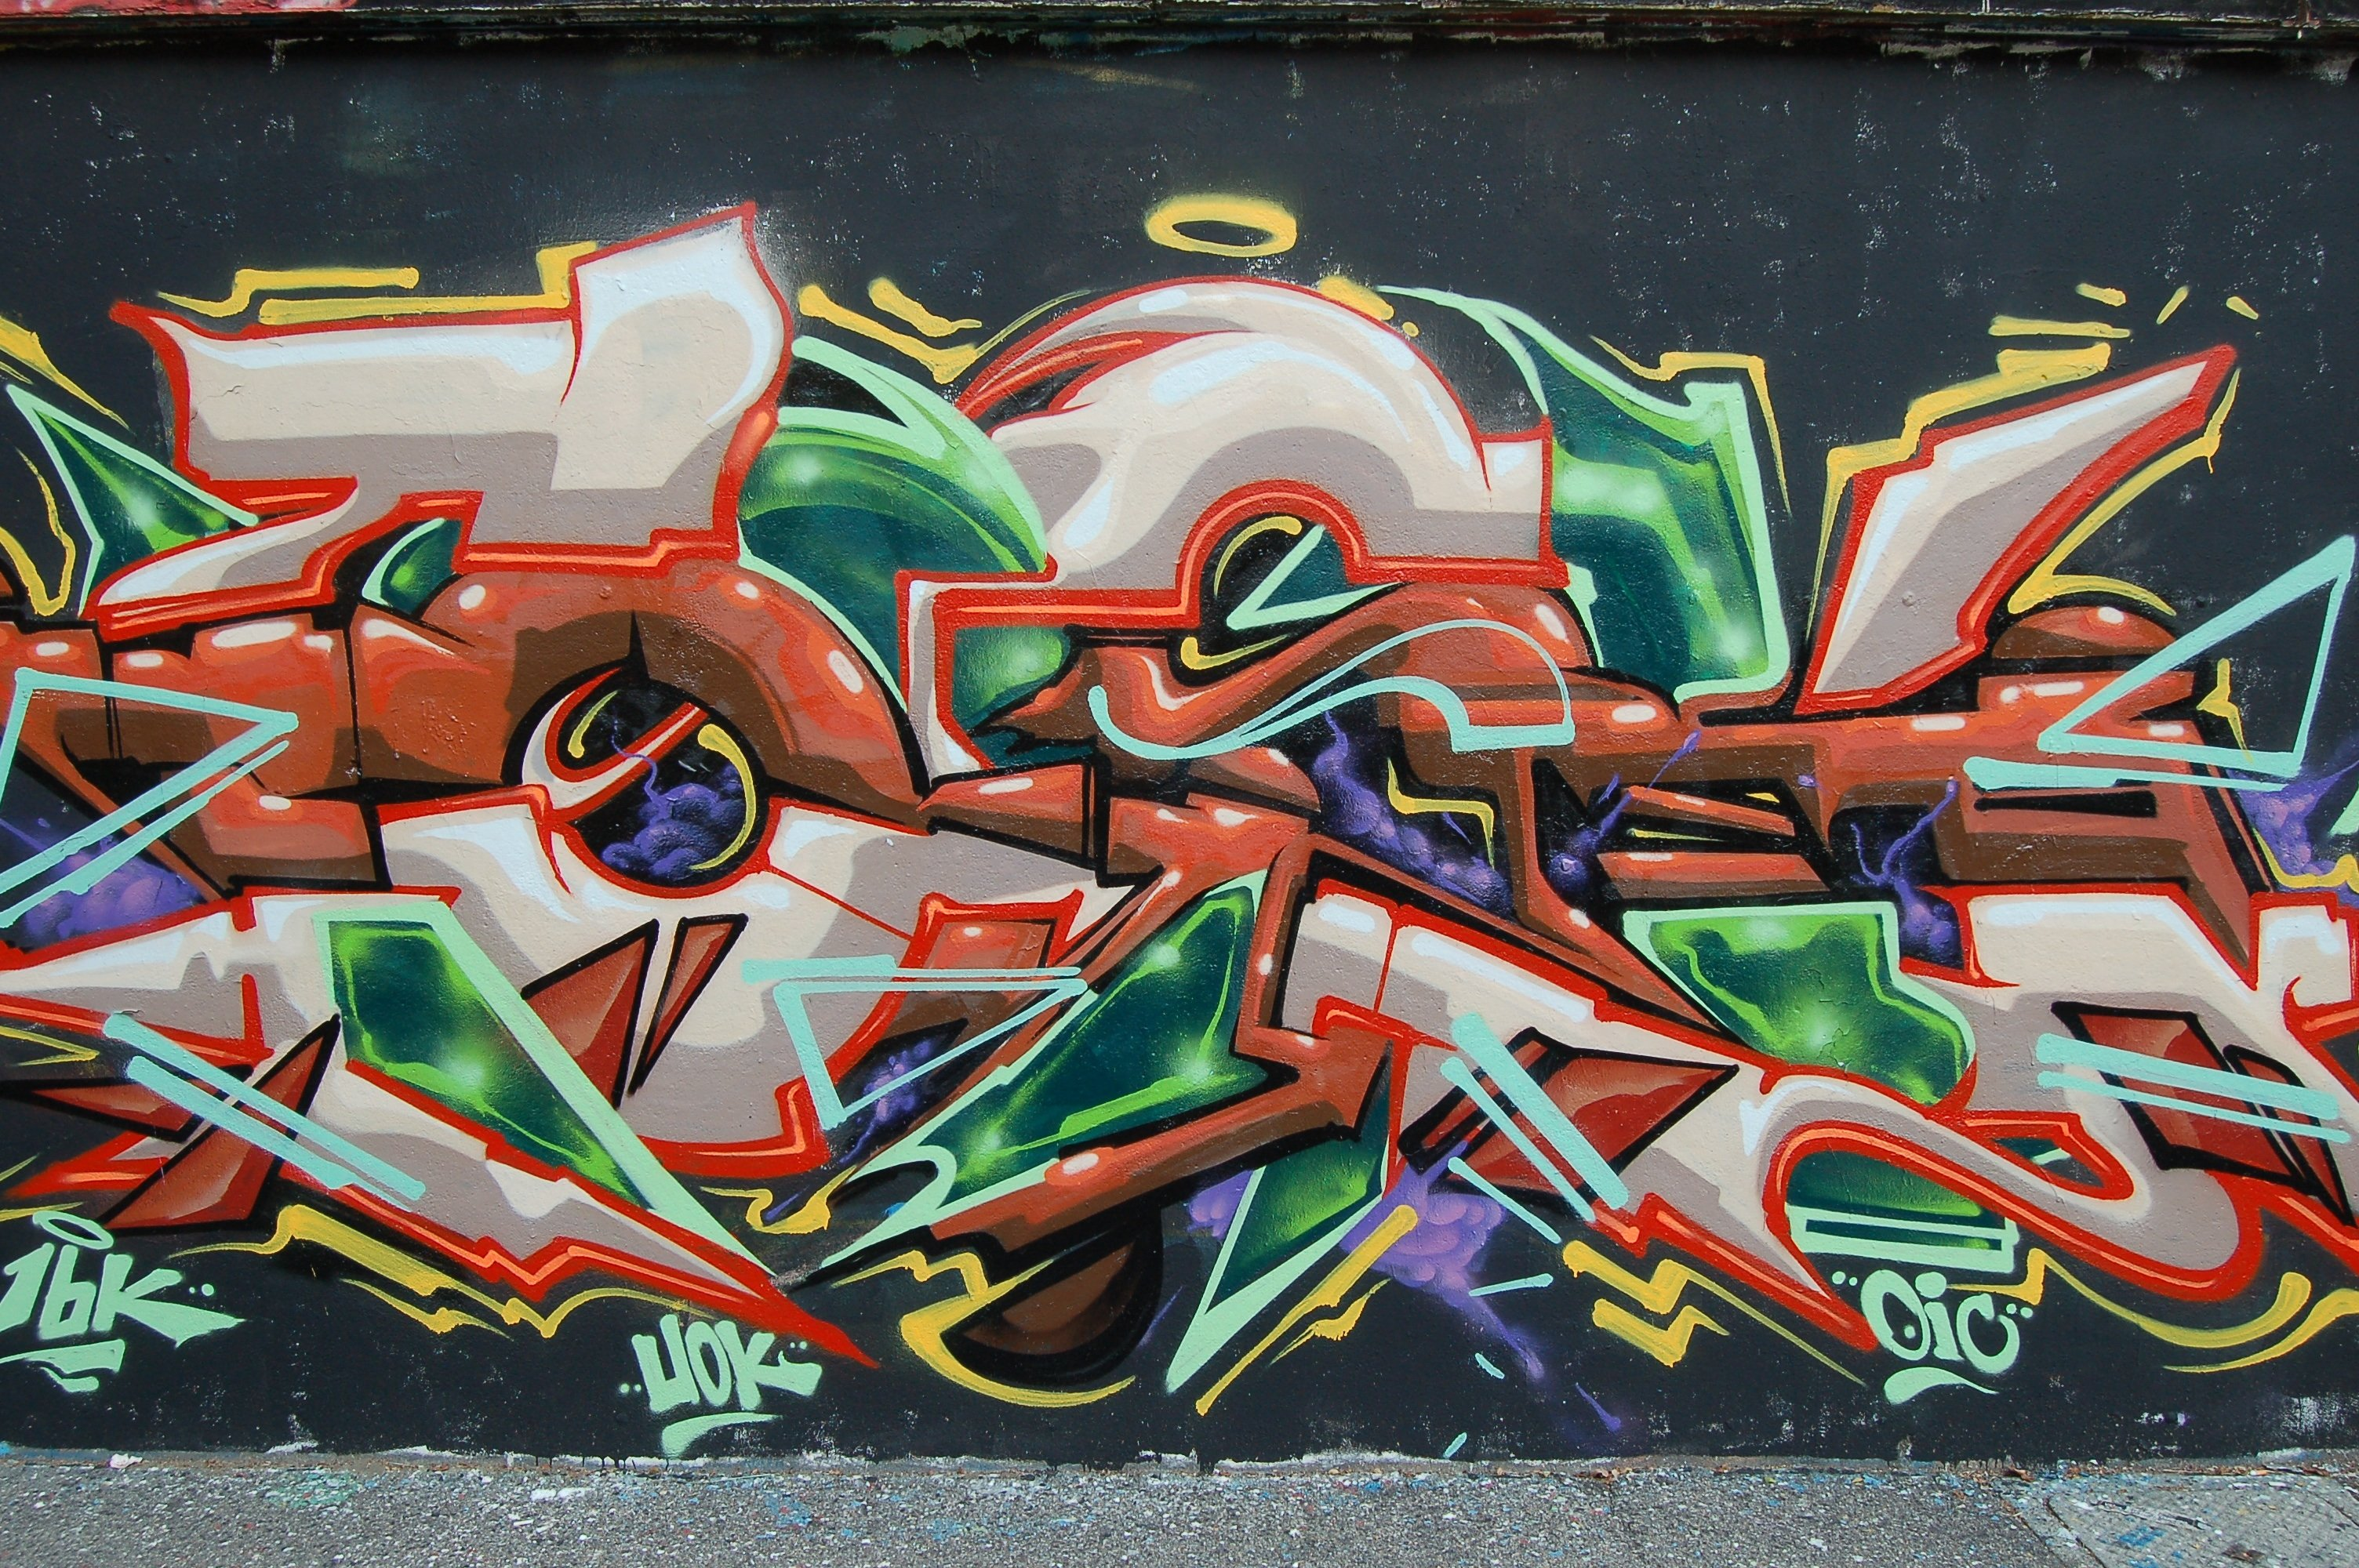graphite: (5, 241, 2359, 1475), (1803, 1200, 2065, 1435), (0, 1241, 205, 1409), (646, 1309, 831, 1472)
